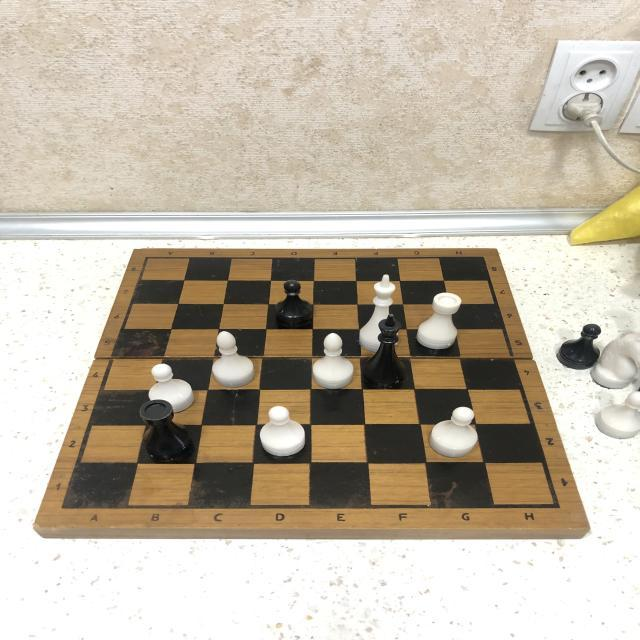chess-table-corners: (52, 496, 82, 518), (542, 494, 570, 517), (471, 250, 493, 266), (140, 252, 160, 264)
